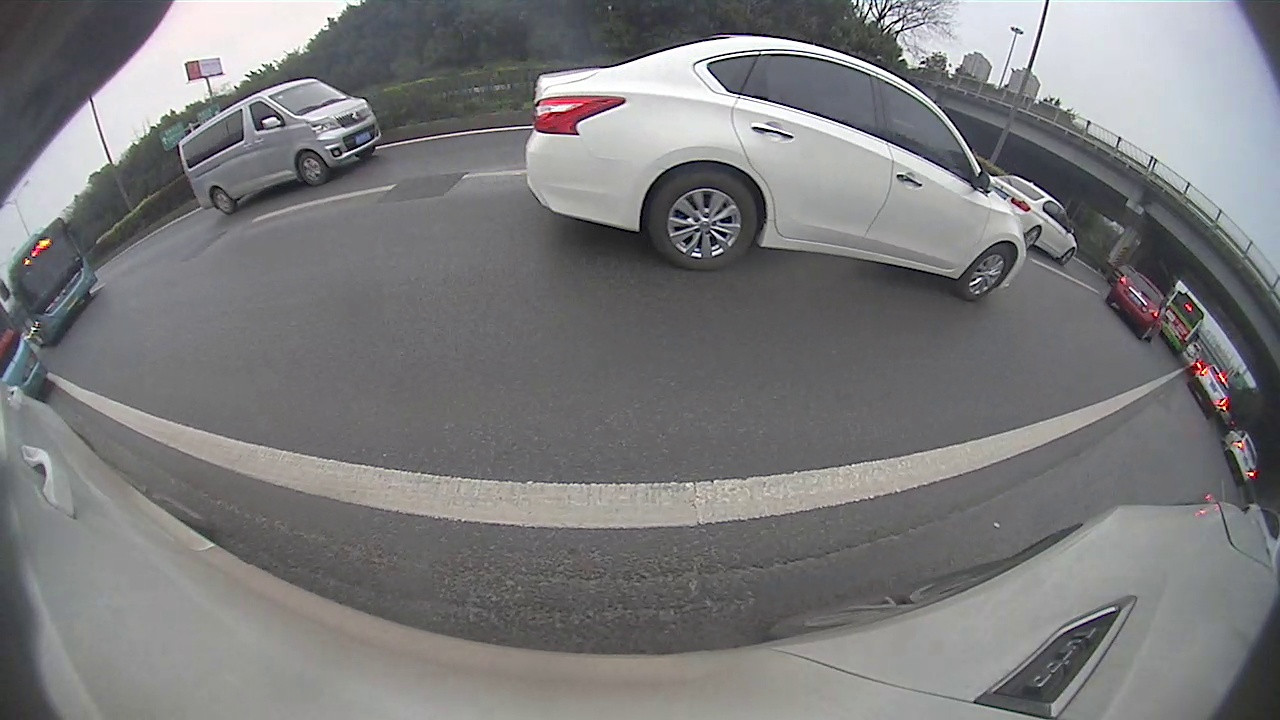bus: (7, 218, 100, 349), (1162, 284, 1206, 355)
car: (523, 35, 1027, 305), (178, 77, 382, 217), (988, 173, 1078, 268), (1106, 268, 1168, 342), (1191, 363, 1232, 420)
front: (957, 244, 1020, 303), (296, 150, 330, 188)
rear: (646, 163, 761, 271), (210, 186, 238, 216)
